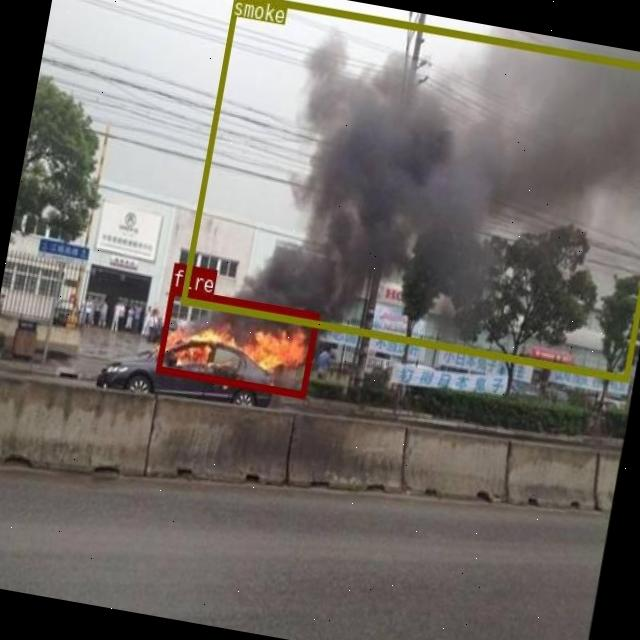fire: (154, 286, 318, 396)
smoke: (179, 0, 640, 381)
